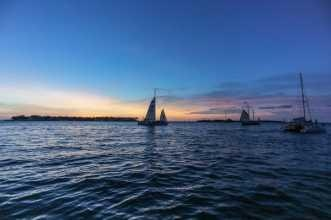fanchuan: (277, 80, 318, 135), (138, 90, 179, 131), (240, 98, 264, 125)
